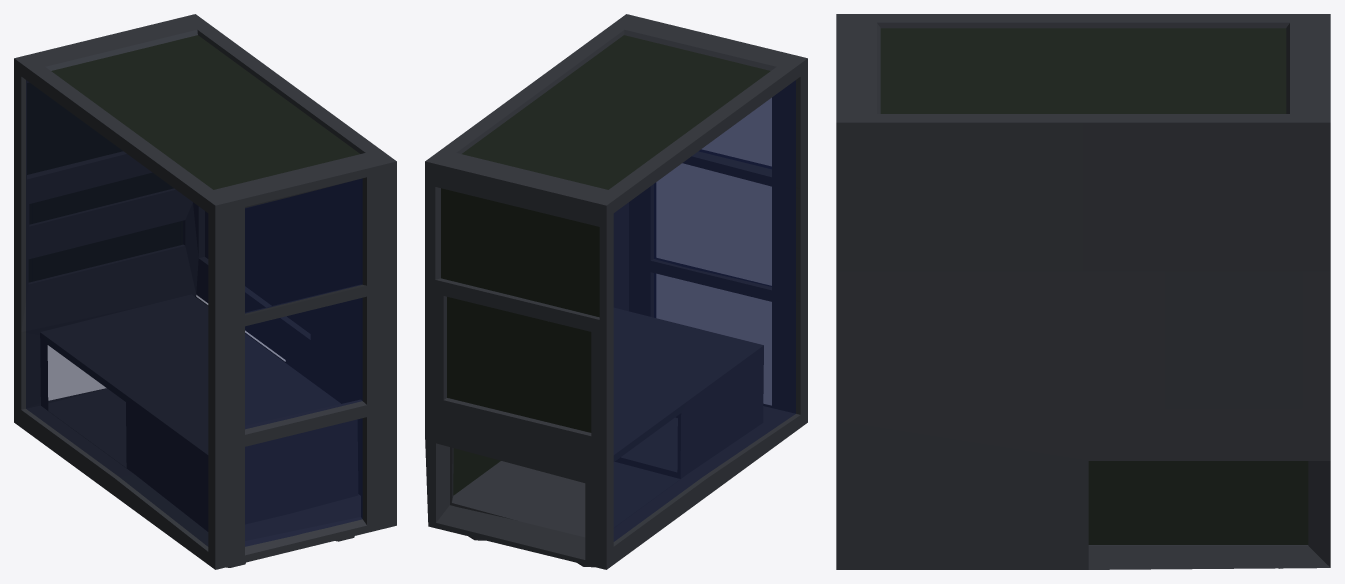
The model's file is JI_PcBase.fbx.
3 views of the same model, side by side, from view 1: azimuth 30°, elevation 25°; view 2: azimuth 150°, elevation 25°; view 3: azimuth 270°, elevation 25° (orthographic). The views are drawn at different scales.
Parts seen in each view (by area): view 1: Corpo.001, Vidro, Fonte, Grades; view 2: Corpo.001, Vidro, Grades, Fonte; view 3: Corpo.001, Grades.
Boxes of the visible parts, x1=… form: Corpo.001: x1=14, y1=14, x2=396, y2=569; Vidro: x1=26, y1=80, x2=362, y2=546; Fonte: x1=40, y1=294, x2=358, y2=531; Grades: x1=27, y1=35, x2=359, y2=362; Corpo.001: x1=425, y1=14, x2=807, y2=569; Vidro: x1=613, y1=80, x2=795, y2=541; Grades: x1=441, y1=35, x2=770, y2=495; Fonte: x1=450, y1=307, x2=763, y2=537; Corpo.001: x1=836, y1=14, x2=1330, y2=569; Grades: x1=880, y1=28, x2=1308, y2=544.
Size of the model in its own units: 455 by 898 by 874.
